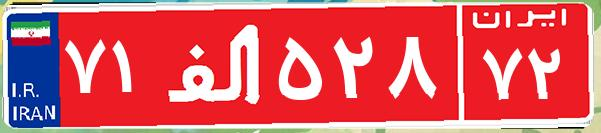1: (110, 28, 158, 105)
2: (330, 28, 385, 110), (525, 38, 570, 115)
5: (273, 28, 330, 110)
7: (57, 26, 110, 107), (475, 38, 525, 113)
8: (385, 28, 445, 110)
الف: (158, 15, 273, 115)
